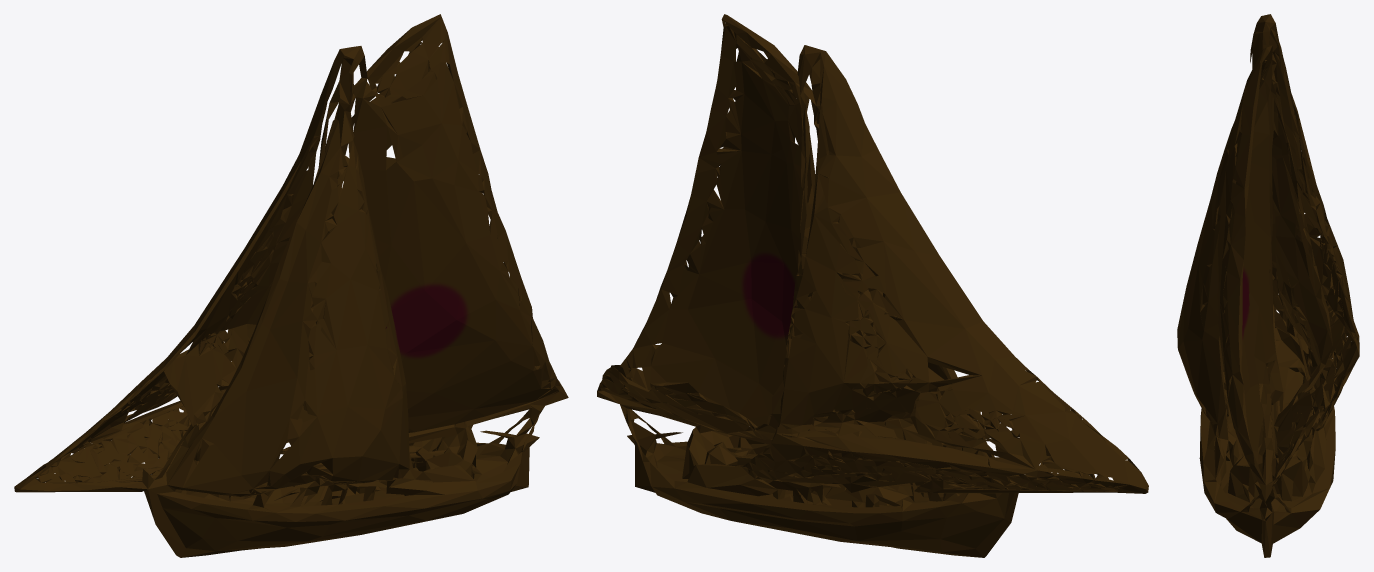
The model's file is botter.glb.
3 views of the same model, side by side, from view 1: azimuth 30°, elevation 25°; view 2: azimuth 150°, elevation 25°; view 3: azimuth 270°, elevation 25° (orthographic). The views are drawn at different scales.
Visible parts, largest first — view 1: boot; view 2: boot; view 3: boot.
Boxes of the visible parts, left/top/right/bottom form: boot: left=14, top=14, right=568, bottom=557; boot: left=597, top=14, right=1148, bottom=557; boot: left=1177, top=14, right=1359, bottom=557.
Bounding box in the file's own units: 4.9 × 4.2 × 1.47.
1 material, 1 textured.
